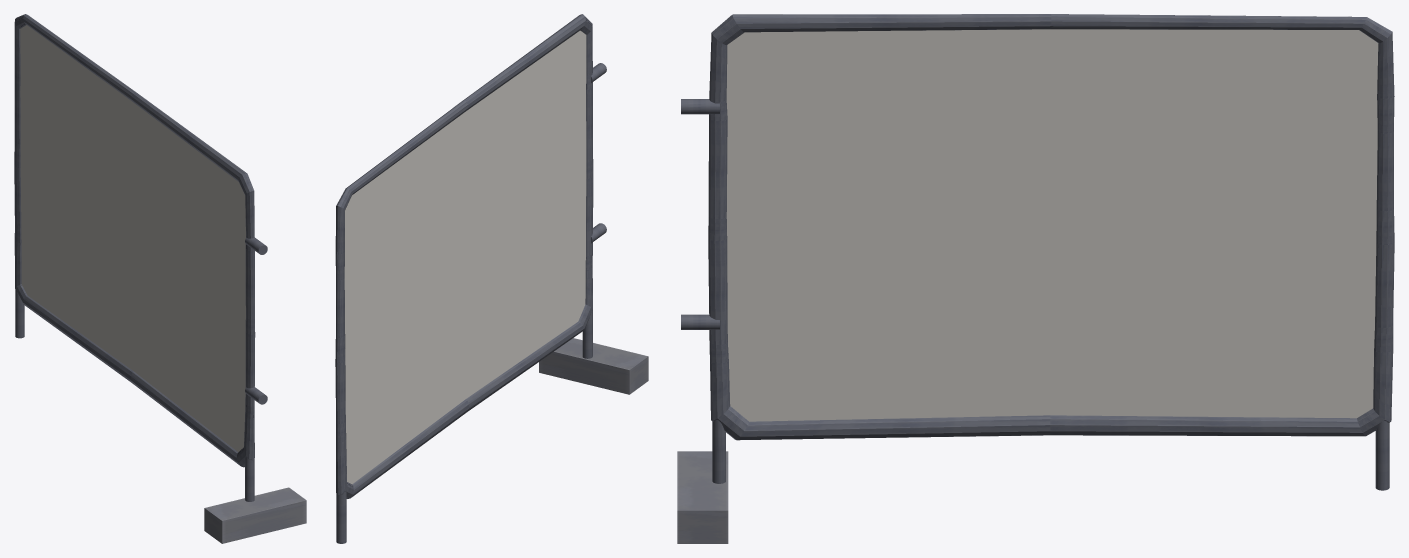
Rendered from Fence 1.fbx.
3 views of the same model, side by side, from view 1: azimuth 30°, elevation 25°; view 2: azimuth 150°, elevation 25°; view 3: azimuth 270°, elevation 25° (orthographic). The views are drawn at different scales.
Visible parts, largest first — view 1: Torus; view 2: Torus; view 3: Torus.
Part boxes in pixels (box(x1,y1,x2,y2)): Torus: box(14, 14, 306, 543); Torus: box(335, 14, 648, 543); Torus: box(677, 14, 1394, 543).
Size of the model in its own units: 64.2 by 252 by 327.
